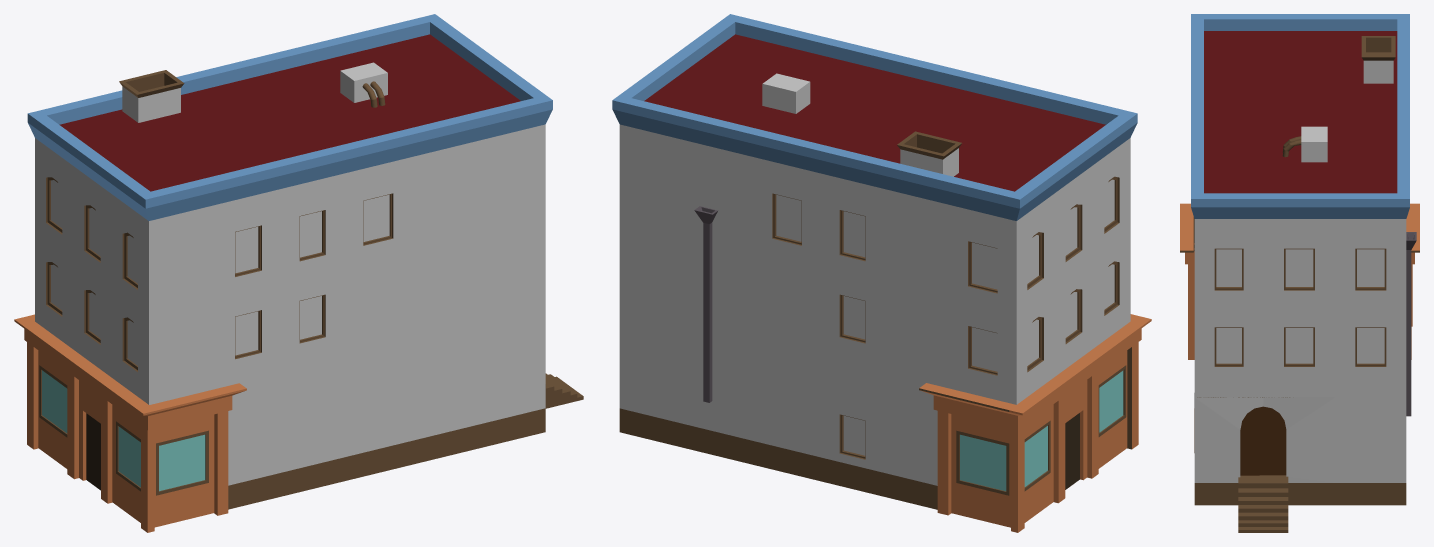
The model's file is BIBLIOTECA.obj.
3 renders of one model, left to right at view 1: azimuth 30°, elevation 25°; view 2: azimuth 150°, elevation 25°; view 3: azimuth 270°, elevation 25°, orthographic. The views are drawn at different scales.
Parts seen in each view (by area): view 1: Cube, Cube.001; view 2: Cube, Cube.001; view 3: Cube, Cube.001.
Boxes of the visible parts, bbox=[...] form: Cube: bbox=[14, 14, 583, 532]; Cube.001: bbox=[42, 180, 389, 491]; Cube: bbox=[612, 14, 1151, 532]; Cube.001: bbox=[776, 179, 1123, 491]; Cube: bbox=[1180, 14, 1419, 532]; Cube.001: bbox=[1216, 249, 1384, 363].
Size of the model in its own units: 7.65 by 5.42 by 3.62.
